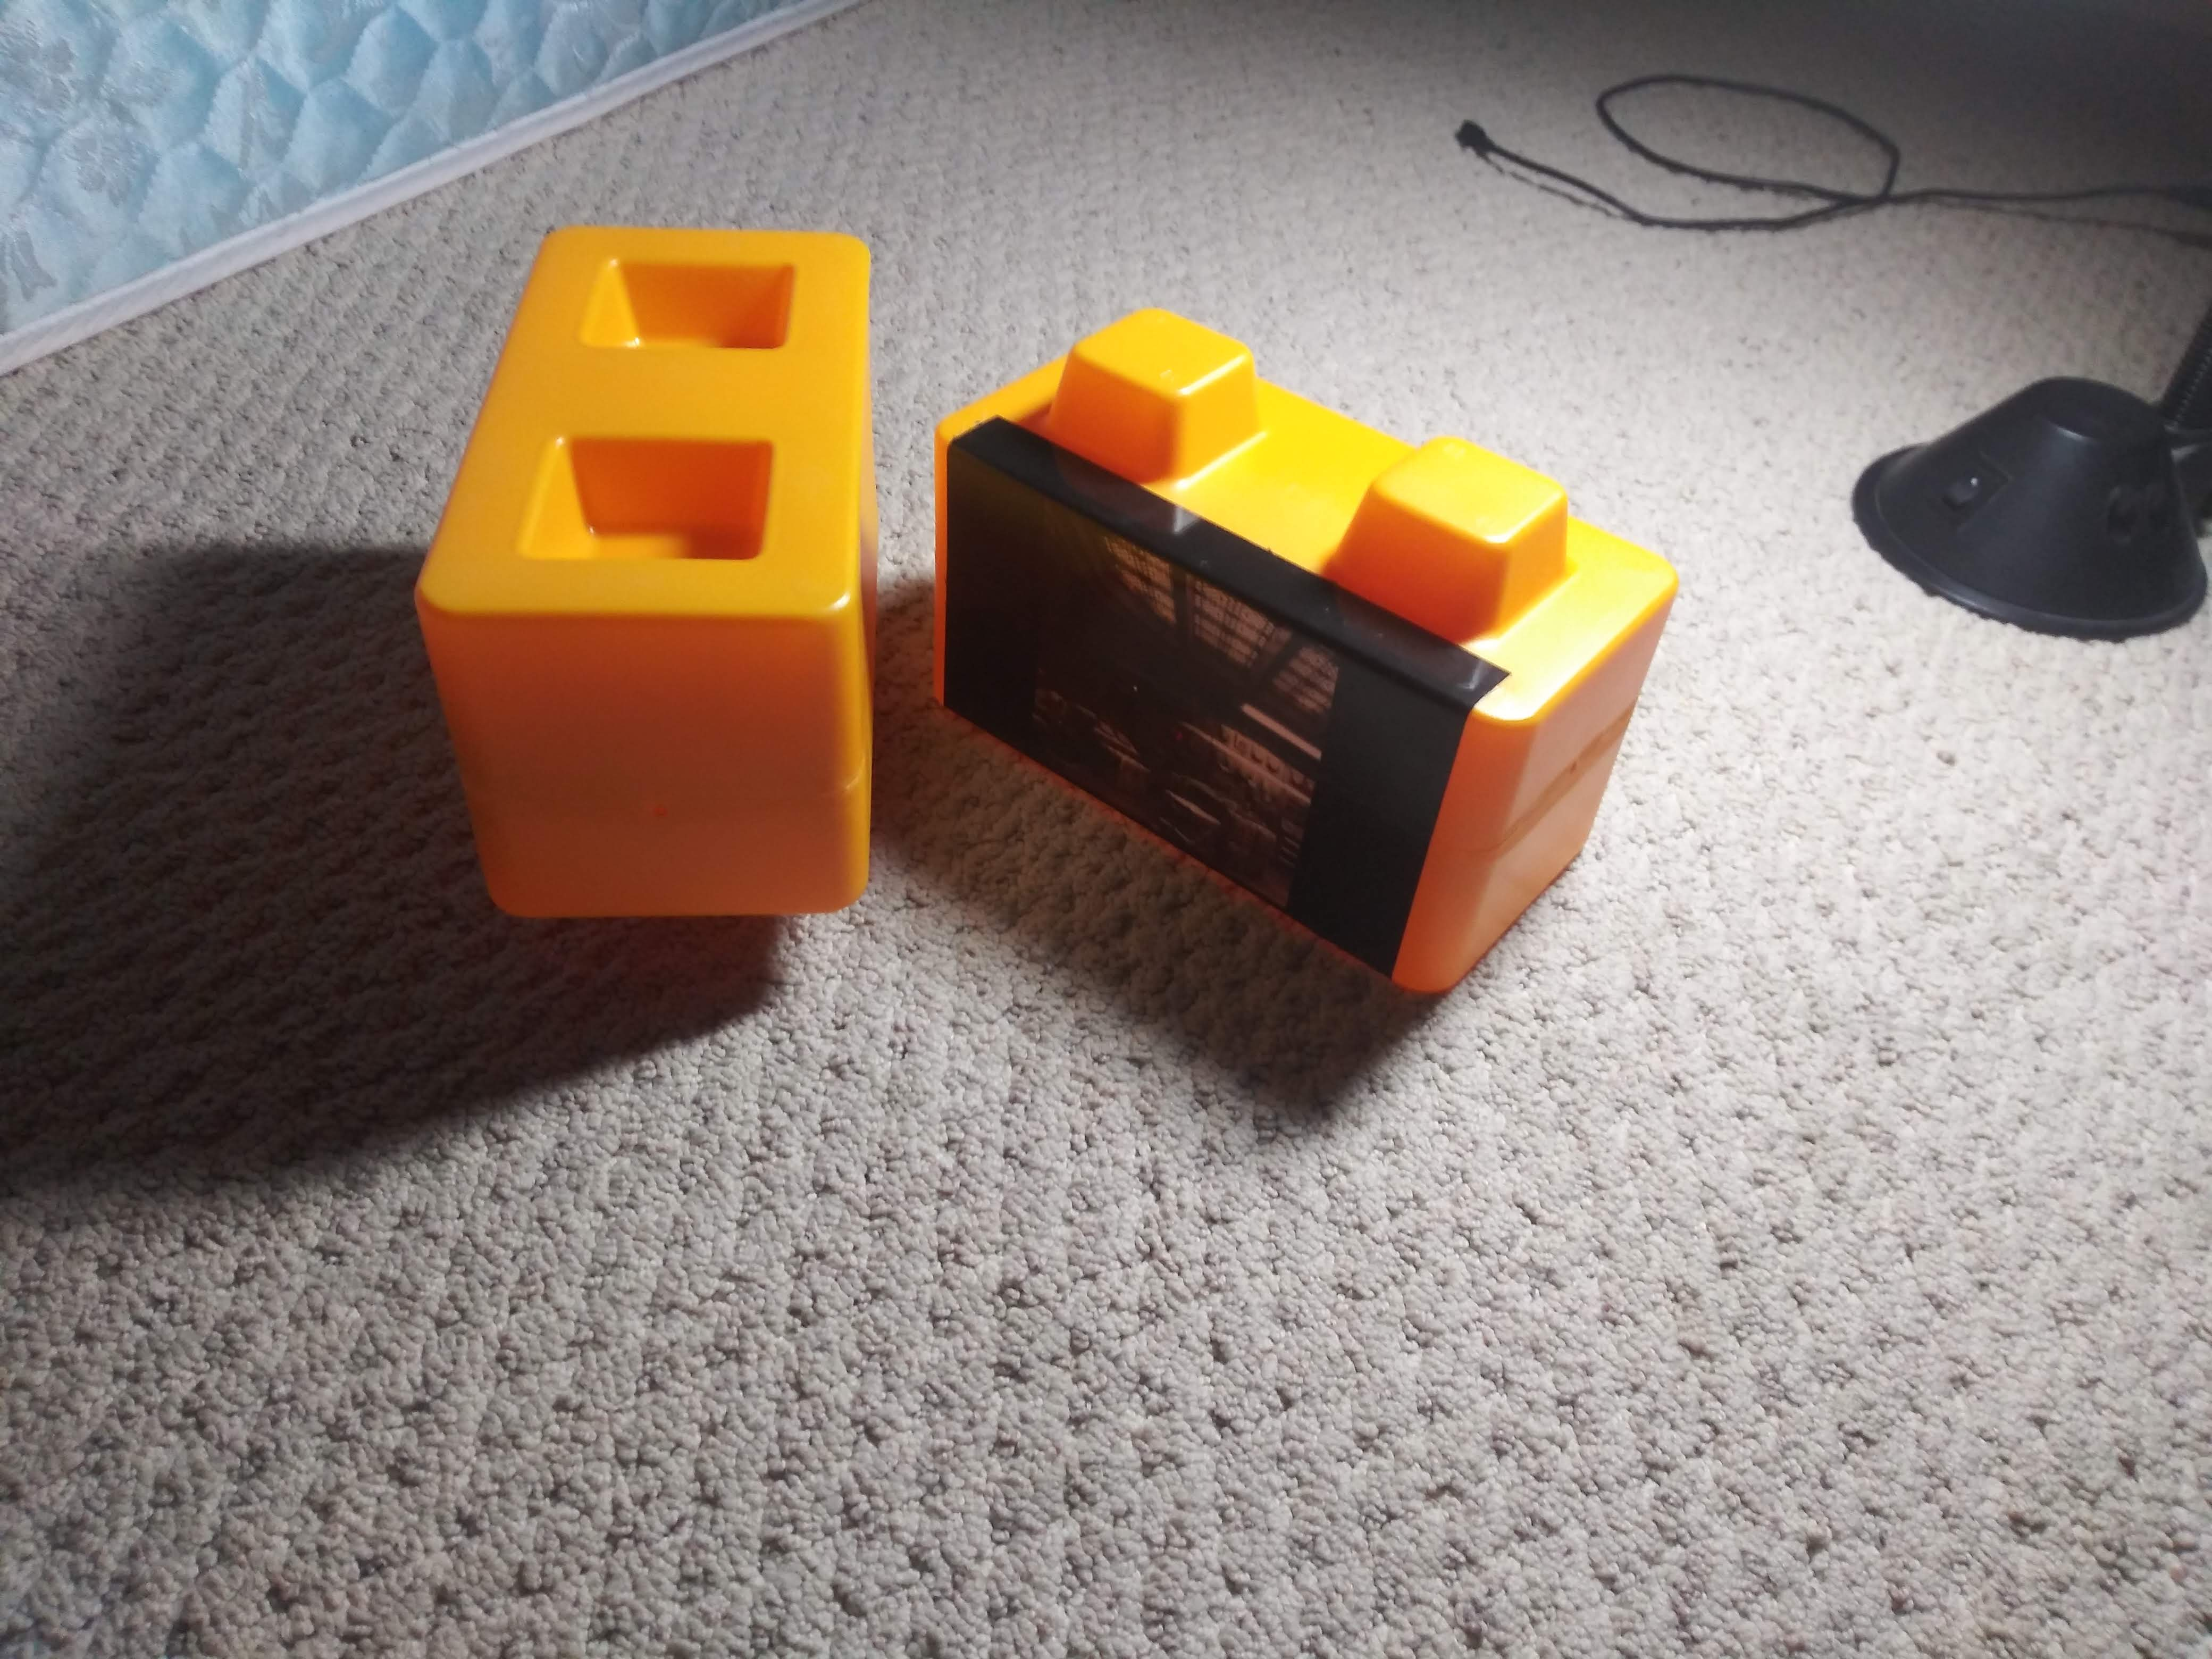skystone: (948, 373, 1588, 918)
stone: (462, 230, 876, 932)
